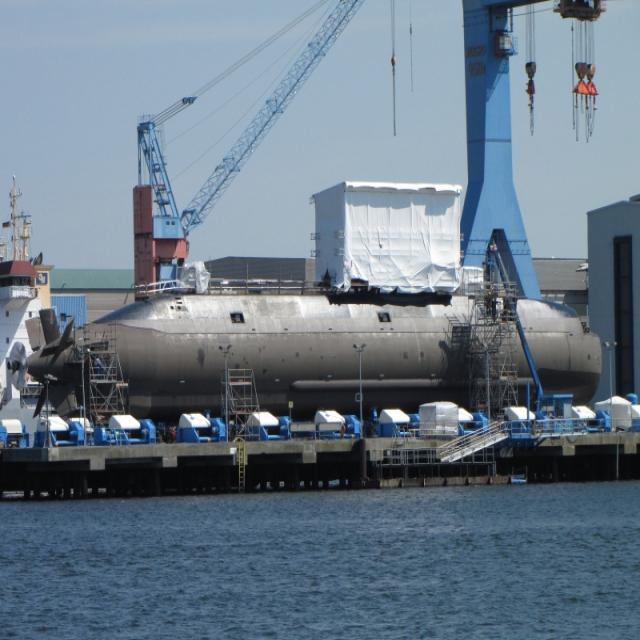submarine: (35, 285, 605, 417)
